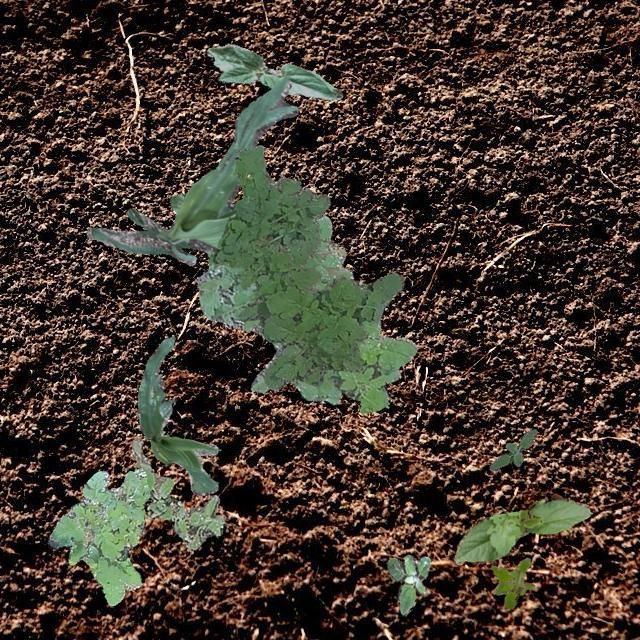crop: (85, 76, 298, 264), (136, 336, 220, 494), (452, 496, 592, 564), (206, 42, 342, 98)
weed: (170, 192, 416, 414), (212, 144, 404, 390), (48, 468, 148, 604), (130, 436, 224, 548), (386, 554, 429, 614), (489, 556, 534, 608), (488, 428, 536, 469)
